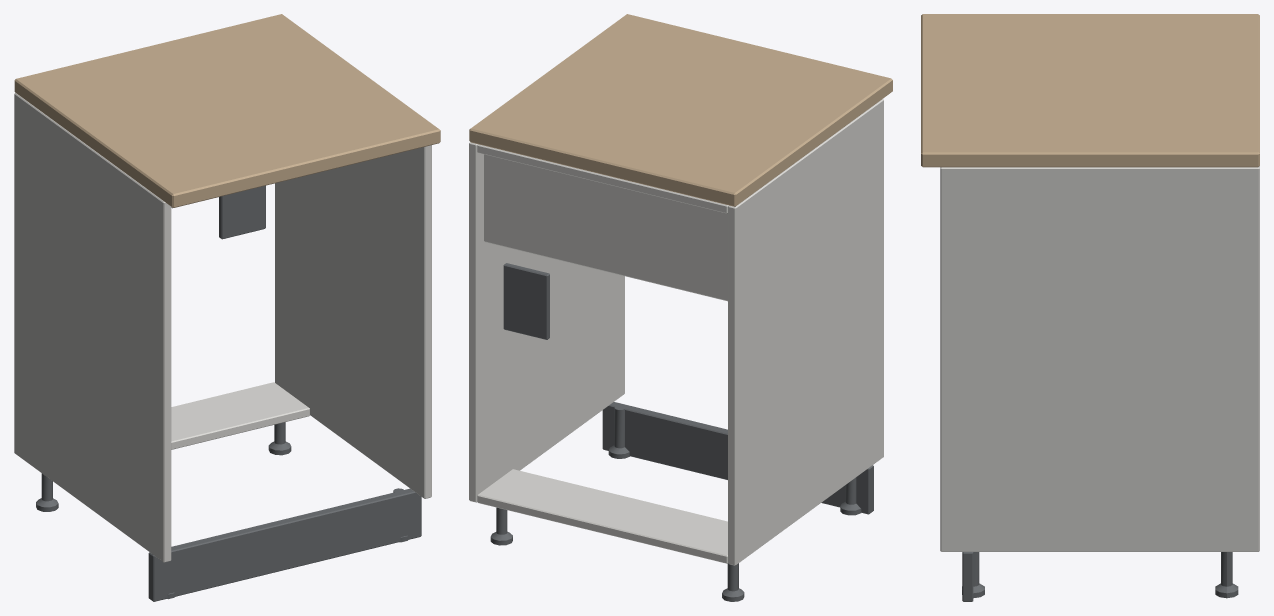
File: fitted-kitchen-and-bathroom-builder-base-600-appliance-a7e2f870__17816.glb
The picture shows the model from 3 angles, left to right: view 1: azimuth 30°, elevation 25°; view 2: azimuth 150°, elevation 25°; view 3: azimuth 270°, elevation 25°; orthographic projection. The views are drawn at different scales.
Parts seen in each view (by area): view 1: base-600-appliance-housing; view 2: base-600-appliance-housing; view 3: base-600-appliance-housing.
Boxes of the visible parts, x1,y1,x2,y2 form: base-600-appliance-housing: (14,14,440,601); base-600-appliance-housing: (469,14,892,601); base-600-appliance-housing: (921,14,1259,601).
Bounding box in the file's own units: 0.6001 × 0.9 × 0.615.
